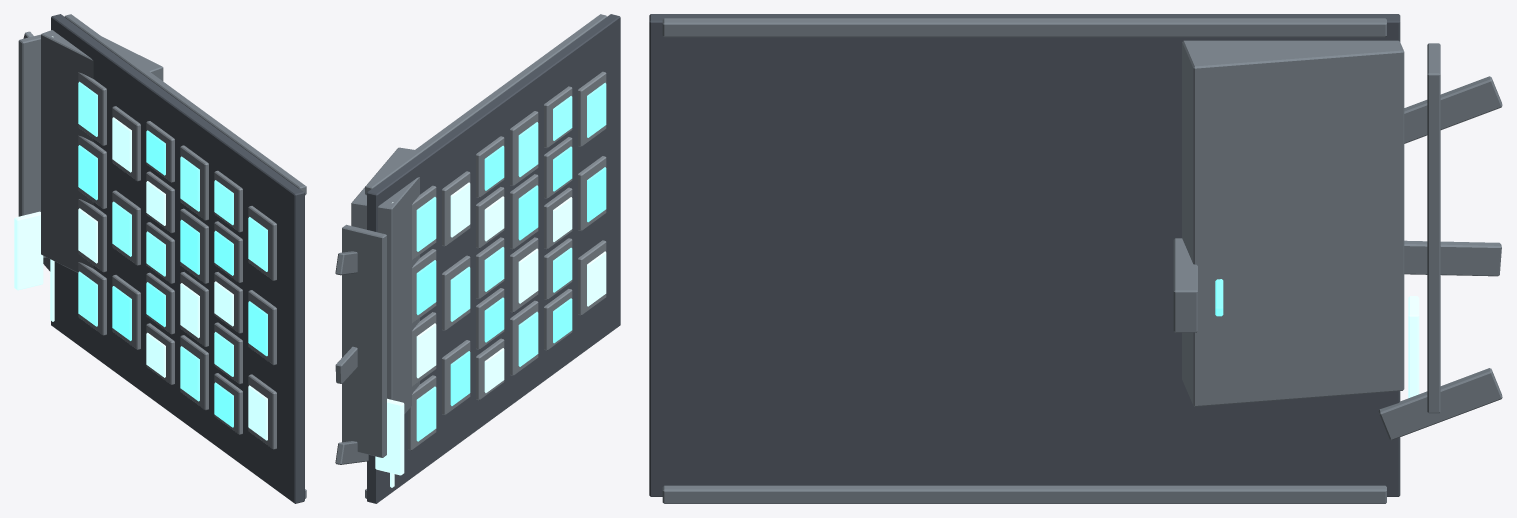
File: facade_rift_r.glb
The picture shows the model from 3 angles, left to right: view 1: azimuth 30°, elevation 25°; view 2: azimuth 150°, elevation 25°; view 3: azimuth 270°, elevation 25°; orthographic projection. The views are drawn at different scales.
Visible parts, largest first — view 1: FacadeRift_R; view 2: FacadeRift_R; view 3: FacadeRift_R.
Part boxes in pixels (x1,y1,x2,y2): FacadeRift_R: (14, 14, 306, 503); FacadeRift_R: (335, 14, 620, 503); FacadeRift_R: (649, 14, 1502, 503).
Bounding box in the file's own units: 1.48 × 3.96 × 6.36.
